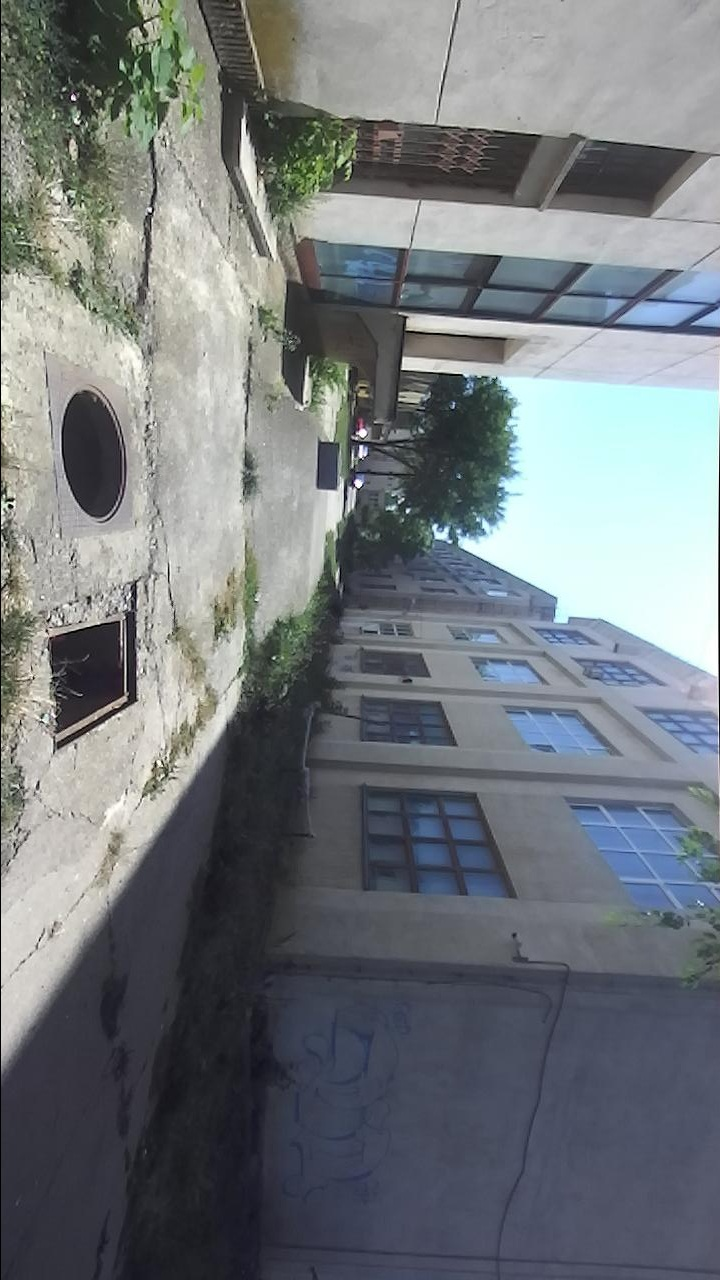drain: (46, 607, 143, 758), (57, 379, 133, 527)
